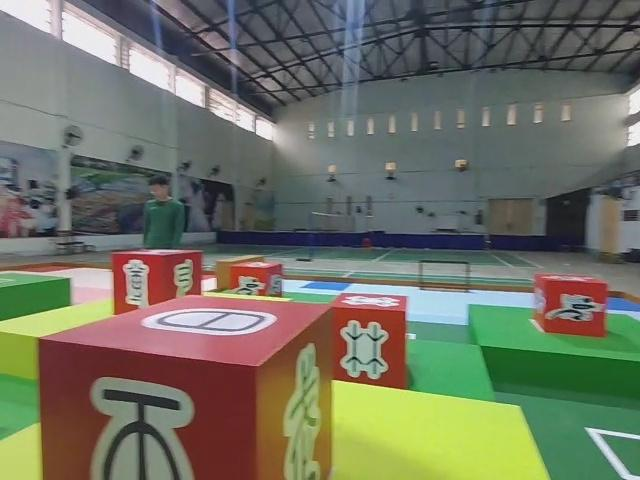R1: (531, 269, 610, 339), (227, 257, 285, 302)
R2 Fake: (36, 290, 336, 480), (109, 245, 203, 318)
R2 Real: (328, 290, 411, 394)
